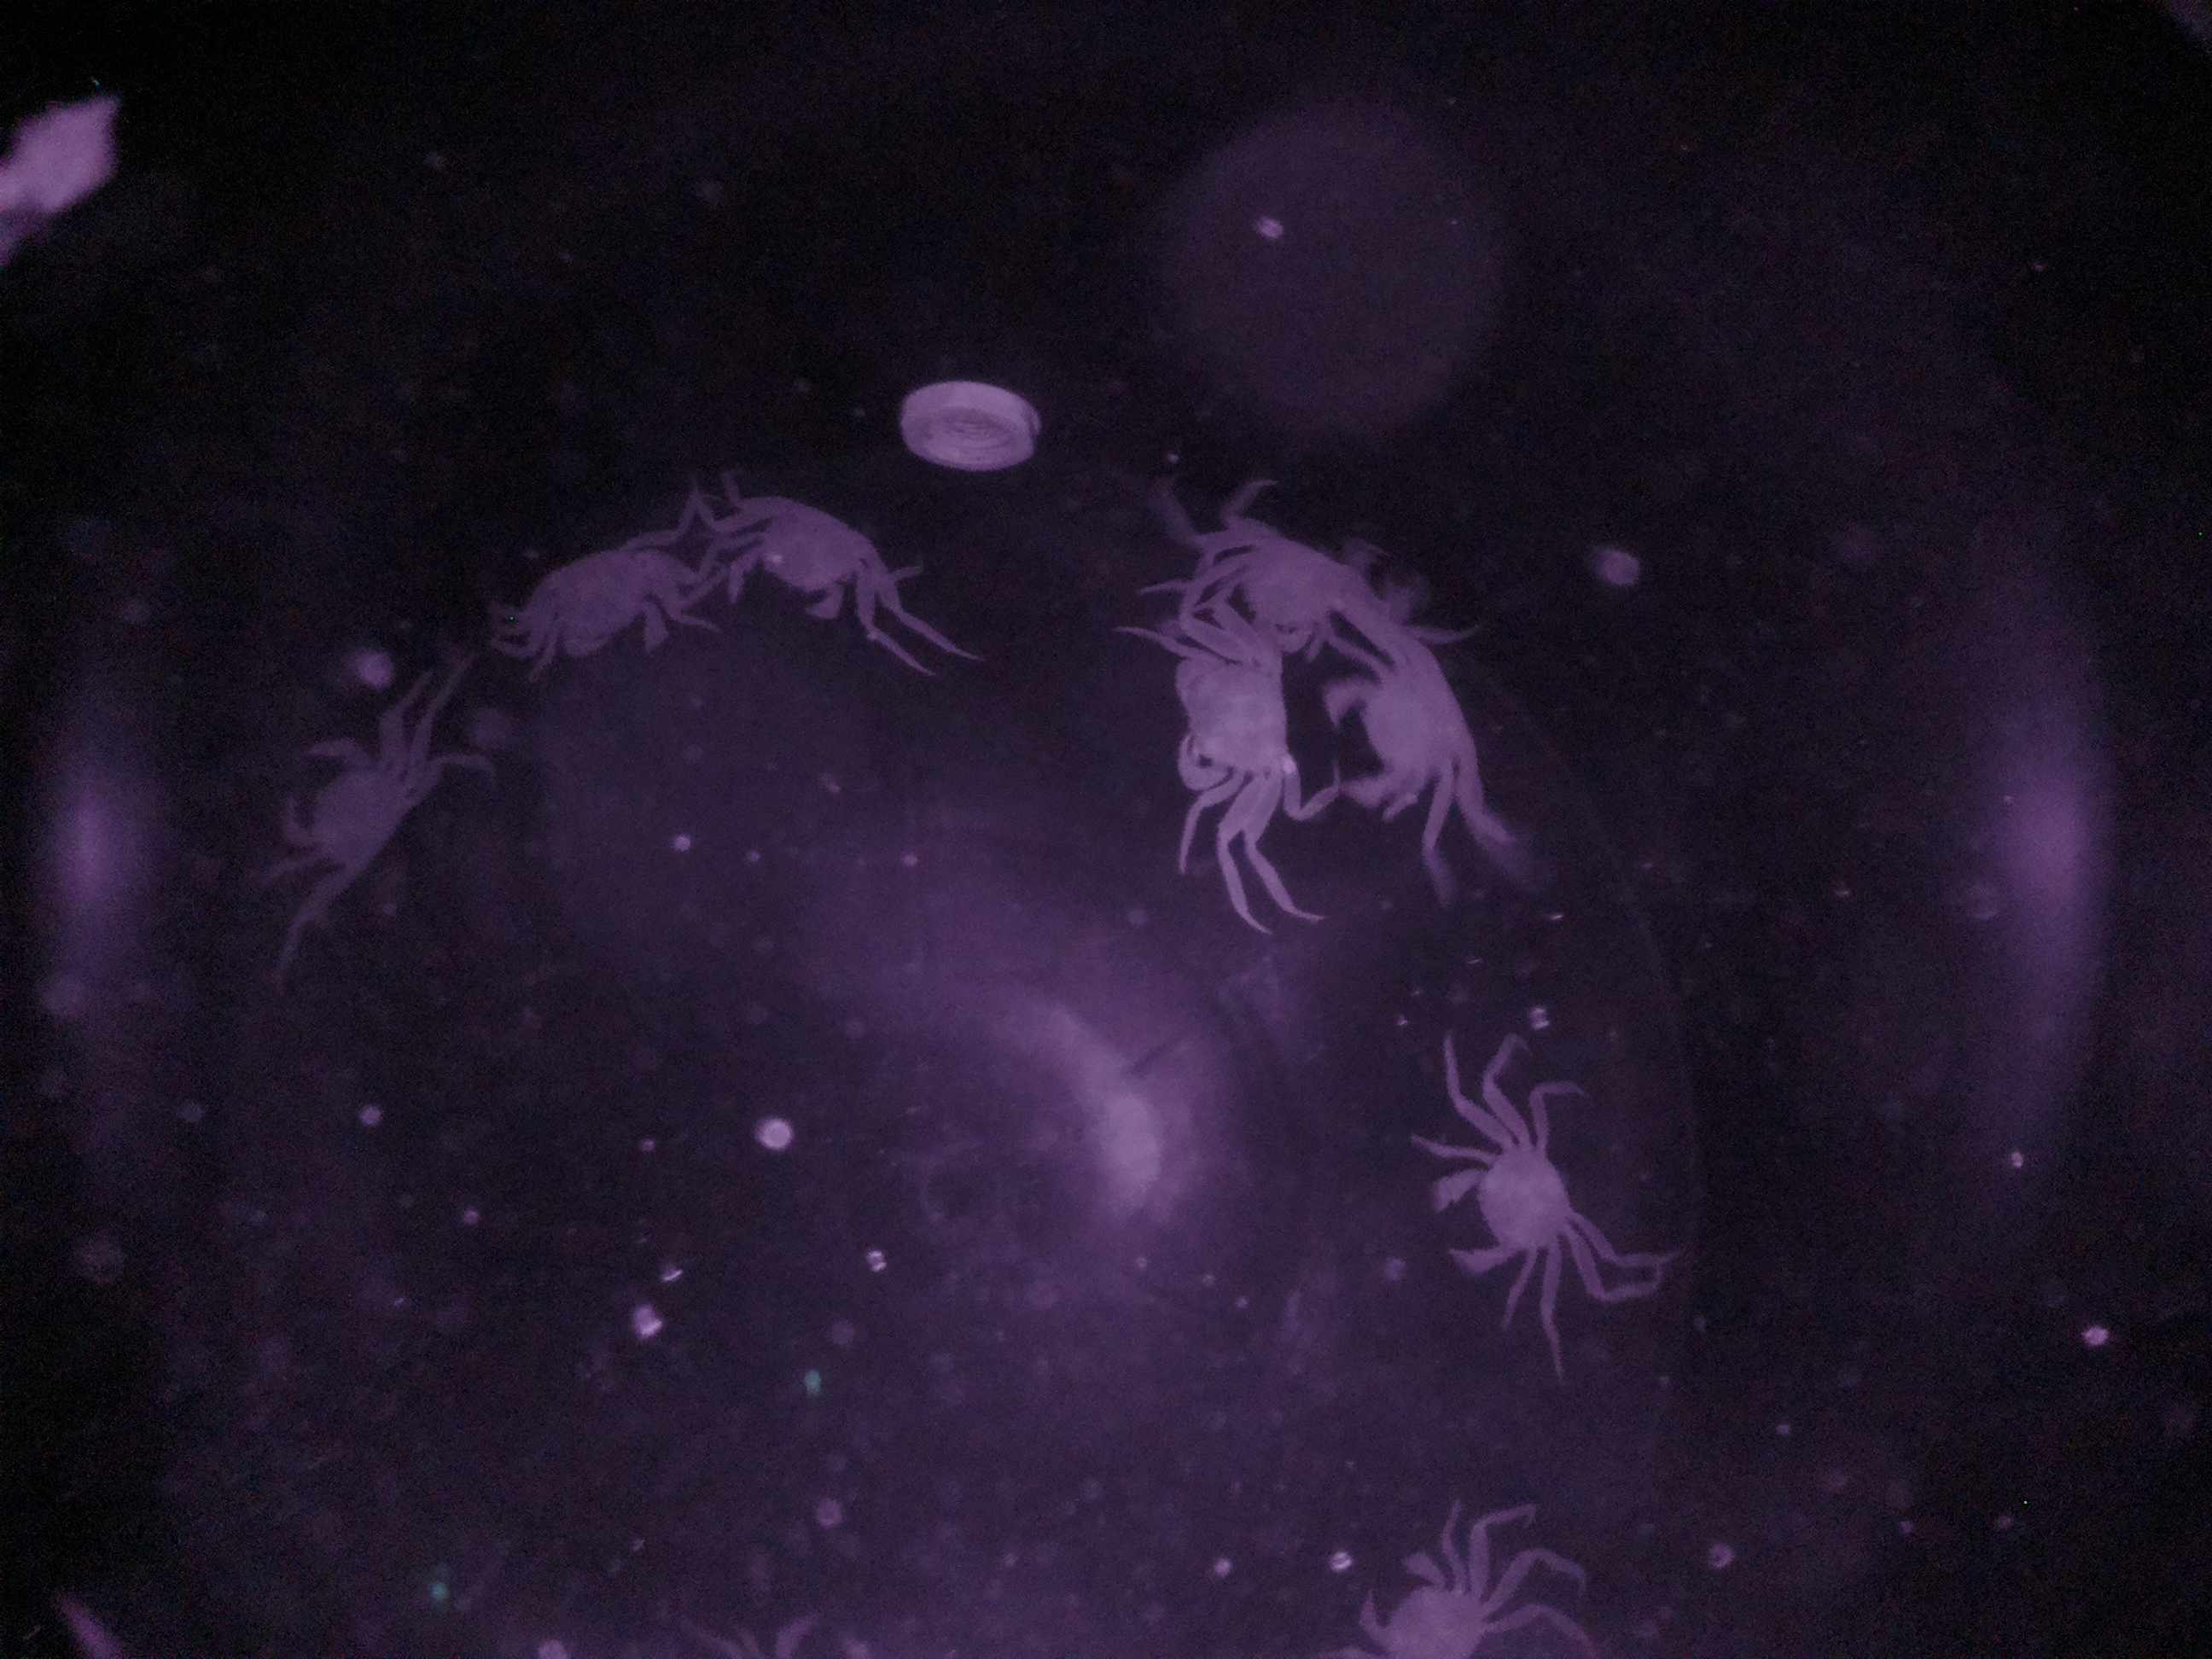Crab: (1148, 582, 1308, 838), (1313, 613, 1489, 840), (1407, 1094, 1590, 1312), (702, 476, 902, 636)
